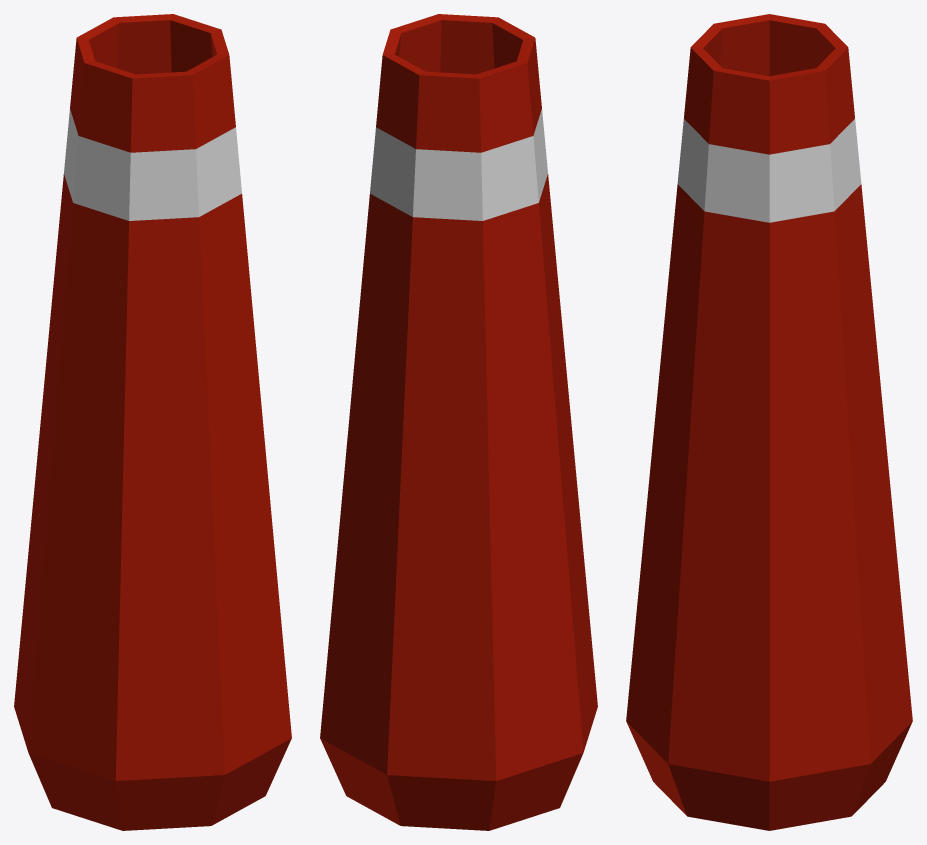
The model's file is Tall_Ecs.fbx.
3 renders of one model, left to right at view 1: azimuth 30°, elevation 25°; view 2: azimuth 150°, elevation 25°; view 3: azimuth 270°, elevation 25°, orthographic.
Parts seen in each view (by area): view 1: Cylinder.001; view 2: Cylinder.001; view 3: Cylinder.001.
Part boxes in pixels (x1,y1,x2,y2): Cylinder.001: (14, 14, 291, 830); Cylinder.001: (320, 14, 597, 830); Cylinder.001: (626, 14, 912, 830).
Size of the model in its own units: 125 by 354 by 125.
